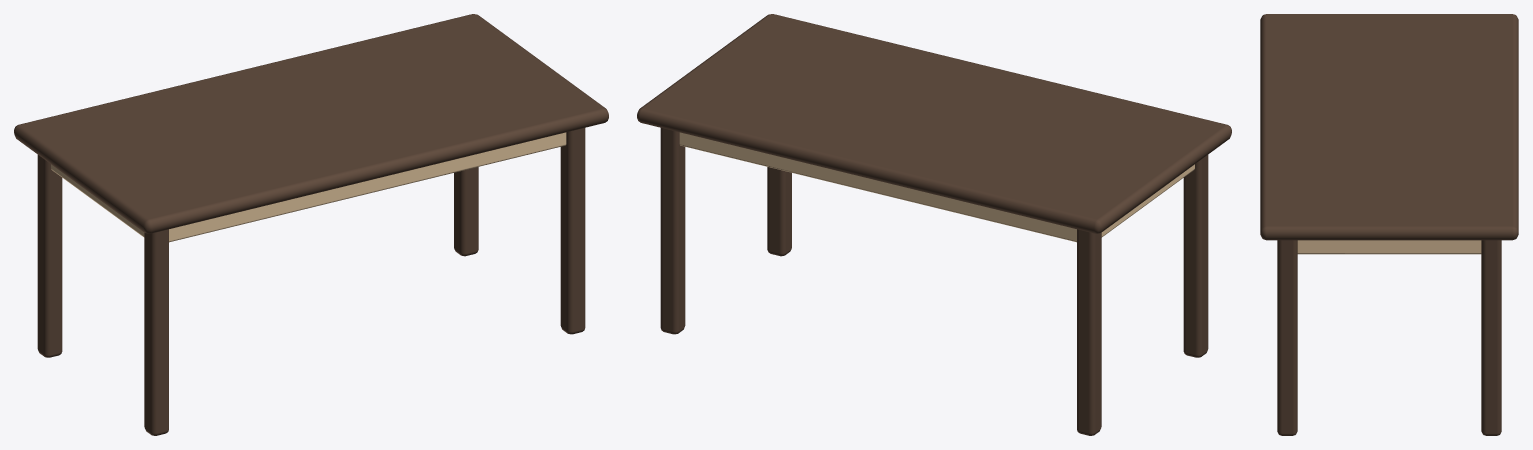
File: table.glb
3 views of the same model, side by side, from view 1: azimuth 30°, elevation 25°; view 2: azimuth 150°, elevation 25°; view 3: azimuth 270°, elevation 25° (orthographic). The views are drawn at different scales.
Visible parts, largest first — view 1: table; view 2: table; view 3: table.
Boxes of the visible parts, left/top/right/bottom form: table: left=14, top=14, right=608, bottom=435; table: left=637, top=14, right=1231, bottom=435; table: left=1260, top=14, right=1518, bottom=435.
Size of the model in its own units: 1.61 by 0.7487 by 0.8087.
